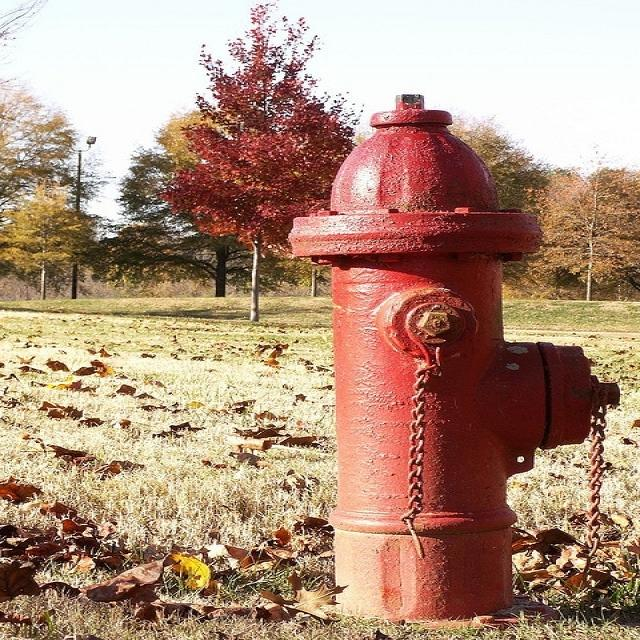fire_hydrant: (286, 71, 610, 620)
